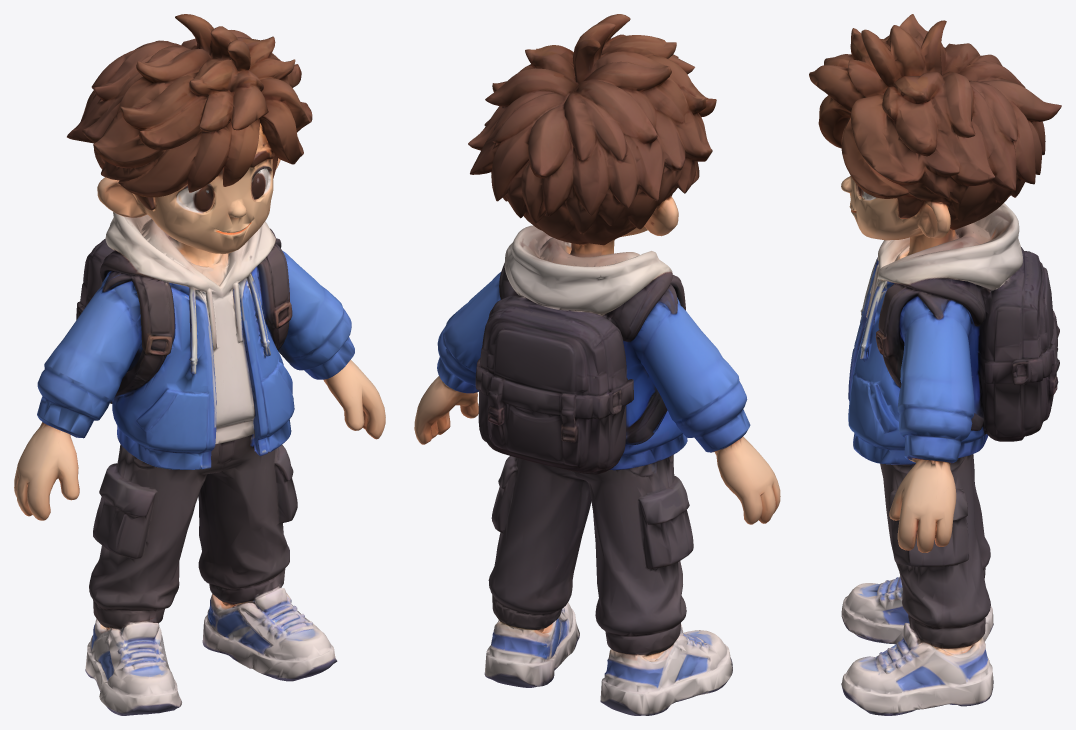
File: avatar-blue.glb
The picture shows the model from 3 angles, left to right: view 1: azimuth 30°, elevation 25°; view 2: azimuth 150°, elevation 25°; view 3: azimuth 270°, elevation 25°; orthographic projection.
Visible parts, largest first — view 1: node_0; view 2: node_0; view 3: node_0.
Boxes of the visible parts, x1,y1,x2,y2 form: node_0: [14, 14, 385, 715]; node_0: [414, 14, 780, 715]; node_0: [809, 14, 1061, 715].
Size of the model in its own units: 0.6519 by 1.13 by 0.4035.
1 material, 1 textured.
